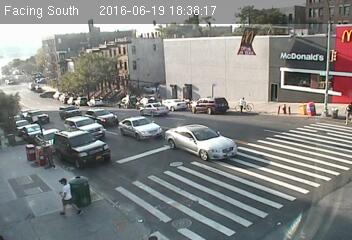neg: (75, 88, 97, 116), (68, 58, 87, 84), (112, 90, 131, 115), (34, 67, 51, 90), (105, 70, 113, 81)
pos: (50, 173, 84, 219), (230, 92, 250, 119), (339, 95, 351, 124)
